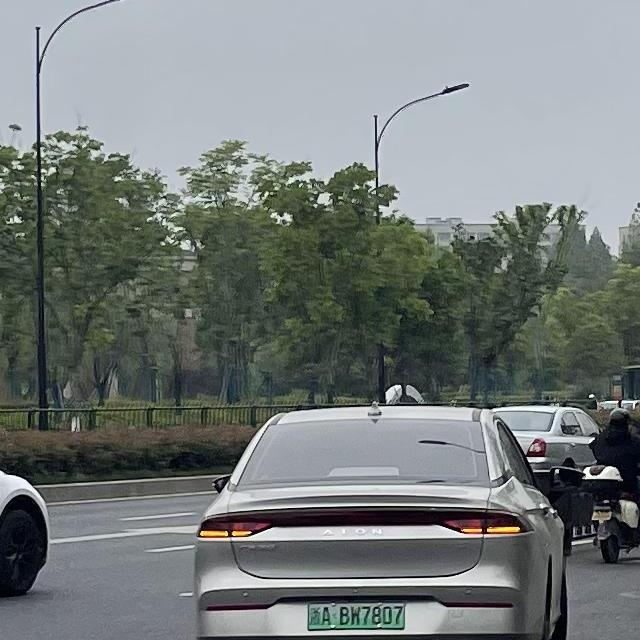curb: (36, 474, 213, 503)
